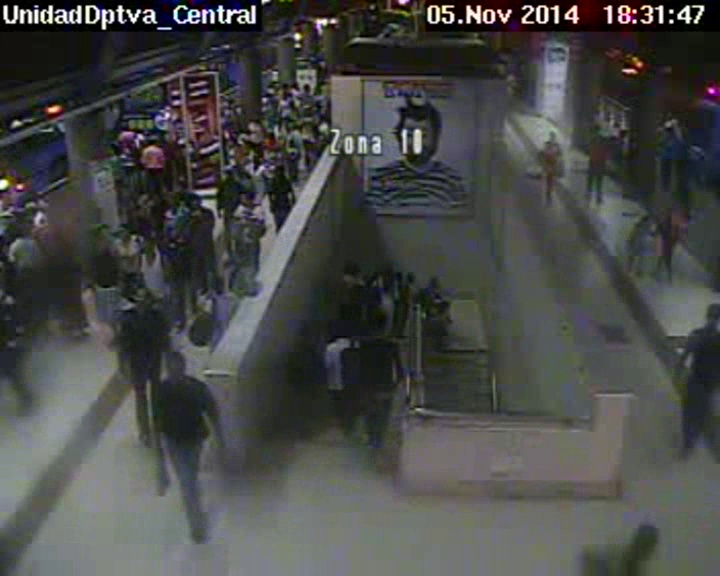person: (630, 524, 662, 559), (164, 351, 189, 379), (184, 191, 206, 211), (54, 204, 73, 224), (132, 287, 150, 307), (703, 303, 720, 322), (210, 275, 226, 295), (96, 223, 111, 241), (118, 223, 134, 238), (238, 190, 253, 206), (372, 325, 387, 340), (337, 320, 351, 336), (166, 192, 180, 207), (274, 165, 288, 178), (669, 195, 681, 209), (350, 264, 362, 278), (429, 274, 441, 287), (641, 207, 652, 221), (147, 134, 159, 146), (224, 169, 237, 180), (547, 128, 557, 141), (404, 270, 415, 281), (382, 266, 393, 277), (221, 129, 232, 140), (17, 225, 27, 237), (251, 155, 260, 167), (593, 131, 603, 141), (302, 85, 312, 95), (234, 144, 244, 154), (226, 99, 237, 108), (247, 120, 256, 131), (665, 123, 673, 135), (289, 123, 299, 132), (310, 126, 318, 137), (3, 192, 10, 204), (314, 114, 323, 123), (315, 98, 324, 107), (226, 137, 235, 146), (254, 122, 263, 131), (125, 121, 135, 129), (280, 92, 290, 100), (267, 87, 275, 95), (267, 132, 274, 140), (293, 82, 299, 91), (288, 101, 295, 108), (315, 88, 321, 95)
